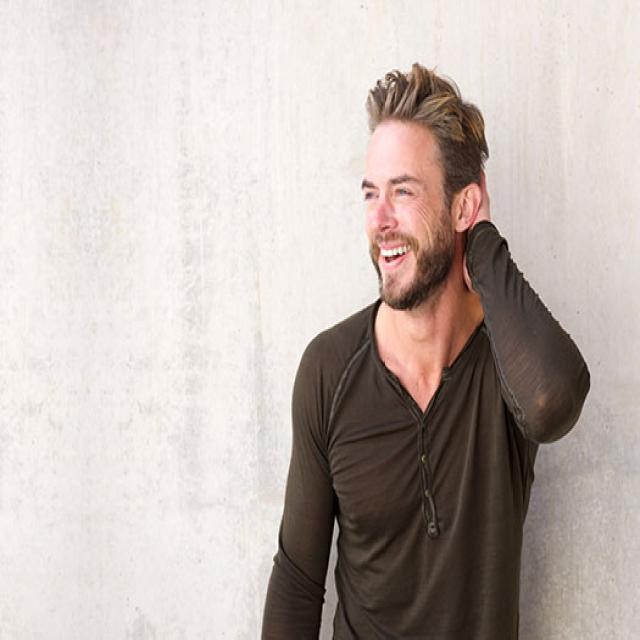mobile_phonerotation: (255, 61, 591, 638)
